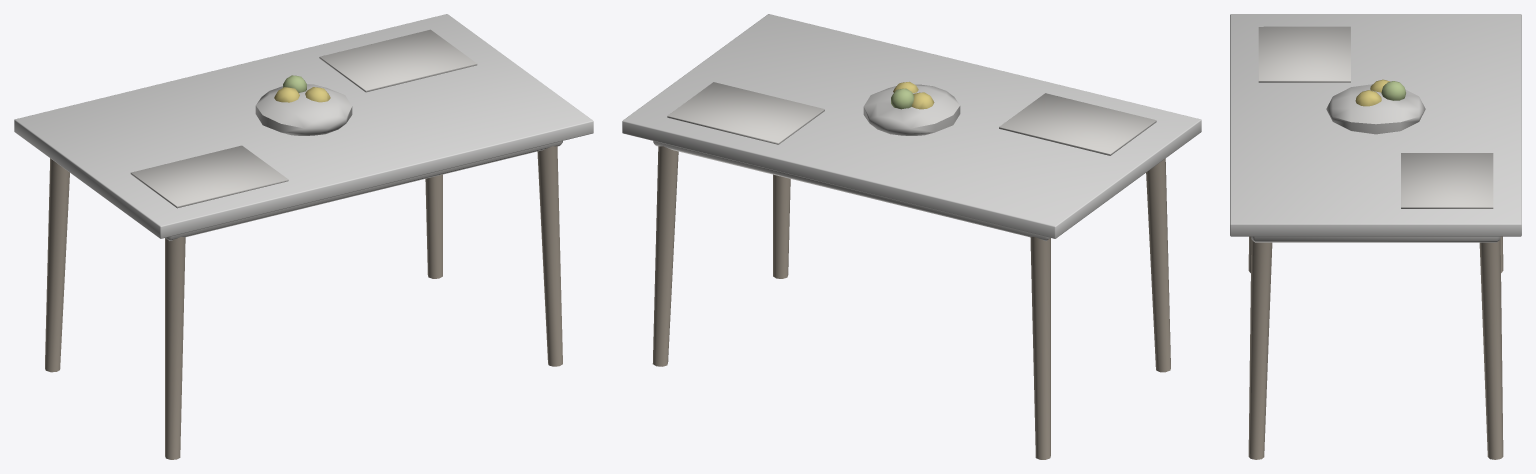
Rendered from white_dining_table.glb.
The picture shows the model from 3 angles, left to right: view 1: azimuth 30°, elevation 25°; view 2: azimuth 150°, elevation 25°; view 3: azimuth 270°, elevation 25°; orthographic projection.
Parts seen in each view (by area): view 1: white_dining_table; view 2: white_dining_table; view 3: white_dining_table.
Part boxes in pixels (x1,y1,x2,y2): white_dining_table: [14, 14, 593, 459]; white_dining_table: [622, 14, 1201, 459]; white_dining_table: [1230, 14, 1521, 459].
Size of the model in its own units: 1.4 by 0.8758 by 0.82.
